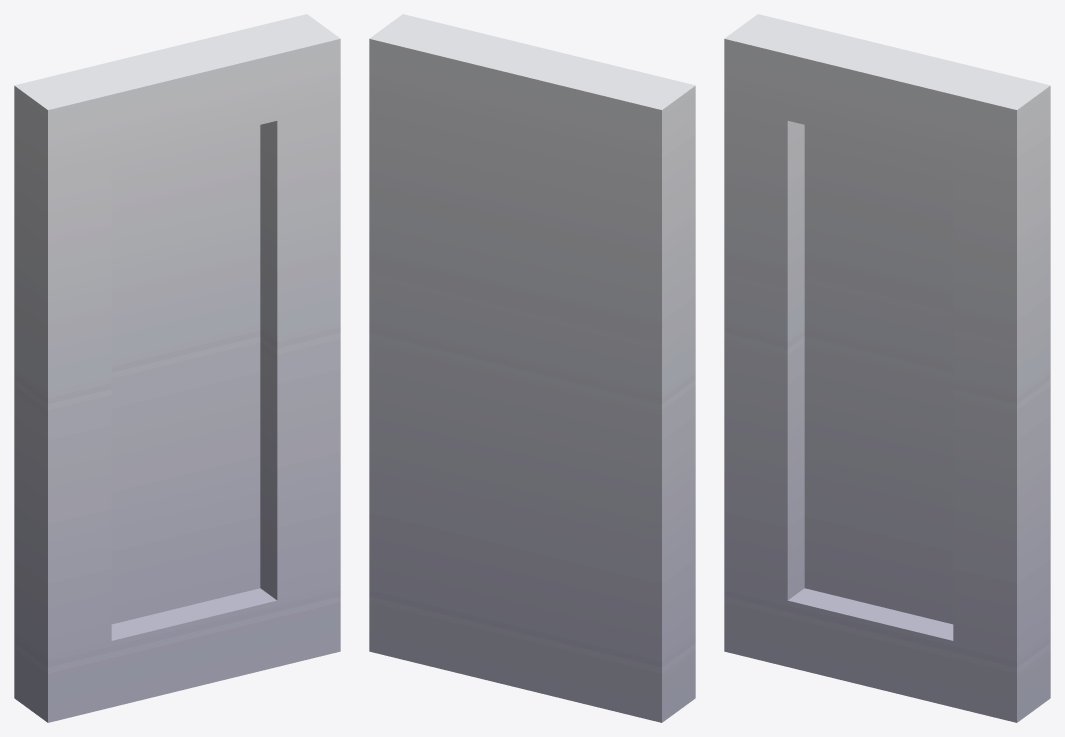
File: door-white.glb
The picture shows the model from 3 angles, left to right: view 1: azimuth 30°, elevation 25°; view 2: azimuth 150°, elevation 25°; view 3: azimuth 330°, elevation 25°; orthographic projection.
Parts seen in each view (by area): view 1: door-white; view 2: door-white; view 3: door-white.
Part boxes in pixels (box(x1,y1,x2,y2)): door-white: box(14, 14, 340, 722); door-white: box(369, 14, 695, 722); door-white: box(724, 14, 1050, 722).
Size of the model in its own units: 0.25 by 0.5 by 0.05.
Materials: 1 (1 with a texture image).
